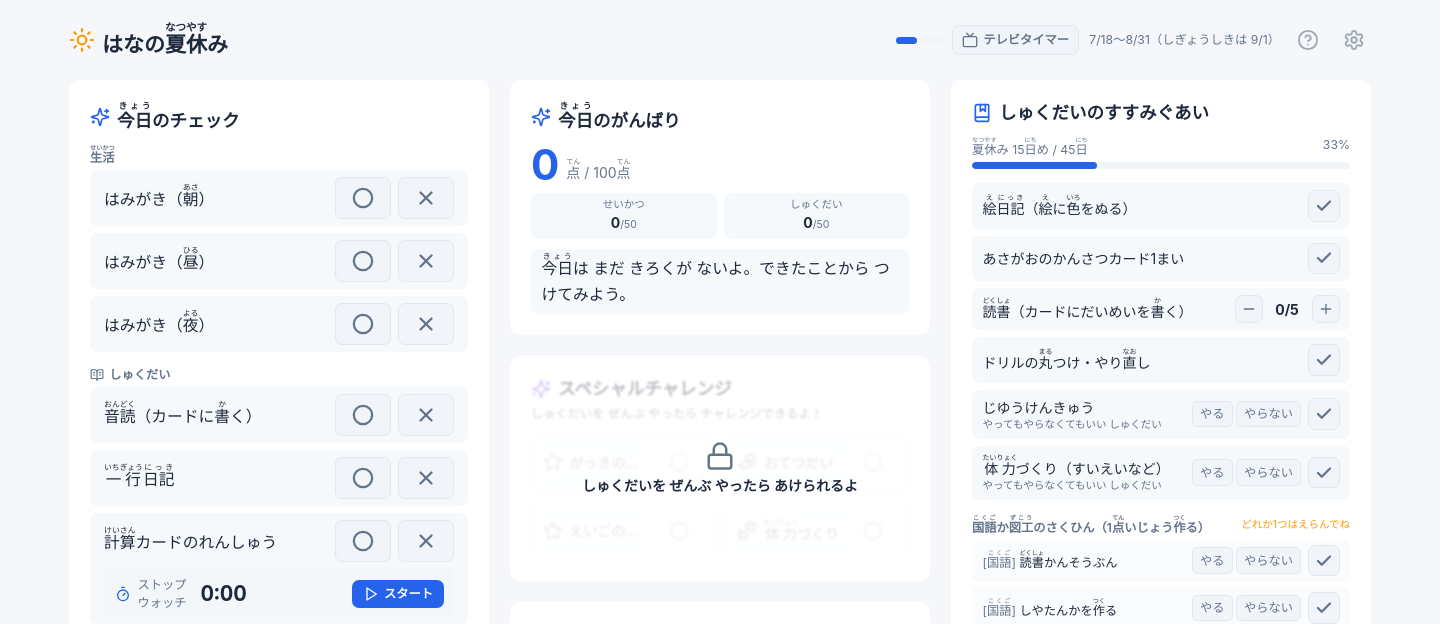
Test: 子どもページ・失敗の文言 › lite の書き込みエラーに status を混ぜない
Click the 1st button named "やった" at point(363, 198), box [335,177,391,219]
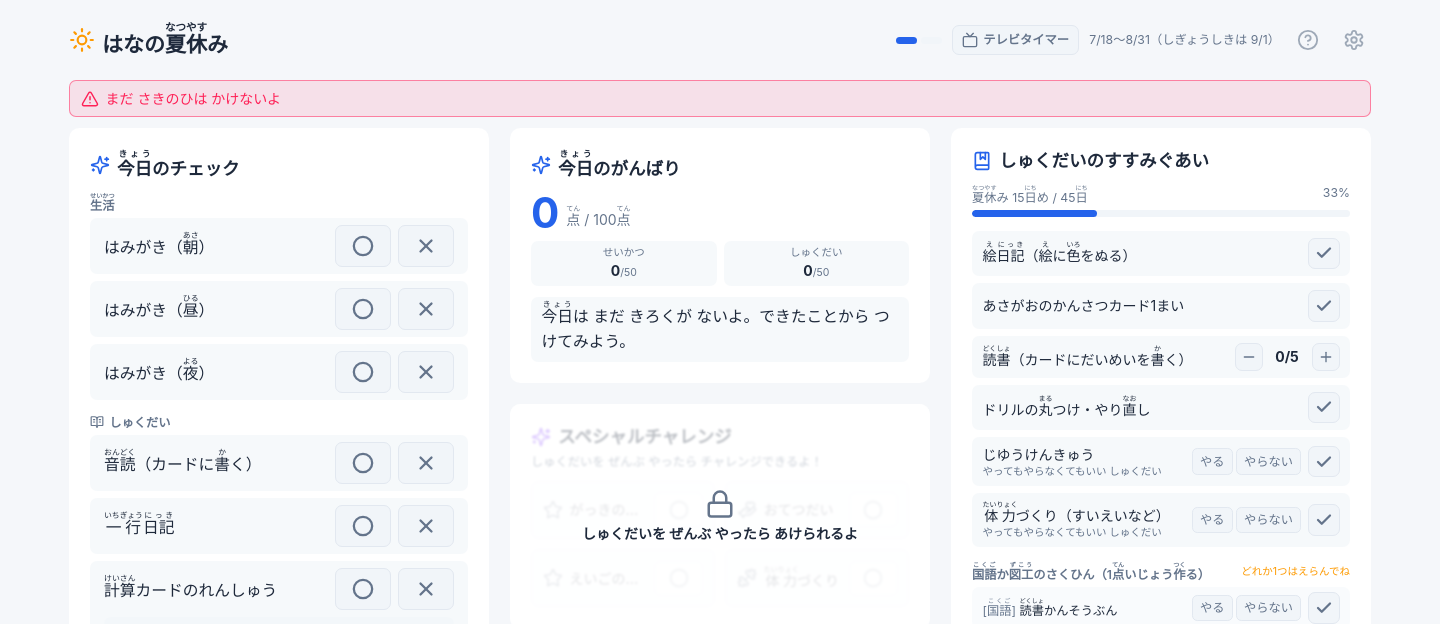
Check: the text "まだ さきのひは かけないよ" is shown, box [69,80,1371,117]
